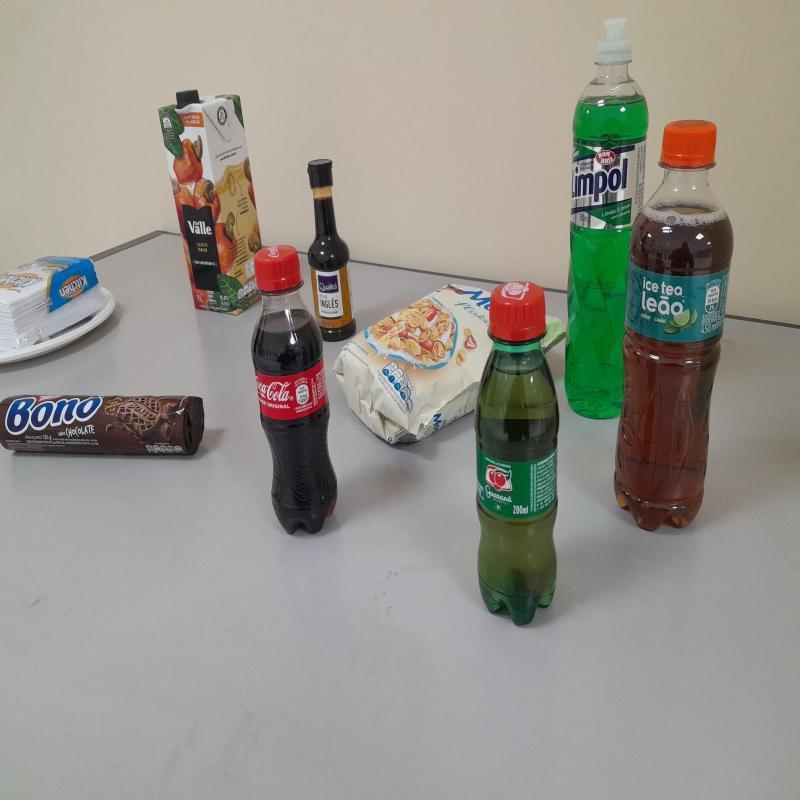Cleaner: (563, 16, 651, 423)
Coke: (250, 246, 338, 539)
Cookies: (0, 395, 206, 462)
CornFlakes: (330, 285, 493, 449)
EnglishSauce: (308, 159, 358, 342)
Guarana: (476, 282, 560, 628)
IceTea: (614, 120, 734, 533)
